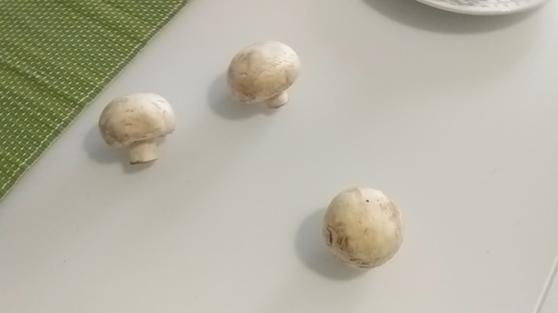champignon: (321, 180, 402, 269), (102, 91, 181, 176), (225, 40, 304, 112)
